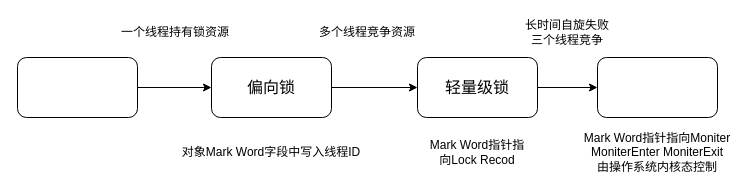
Image size: 755x194. Some labels were removed from this diagram. The shapes that lost their labels are listed below. From the top down, each one's centre as x and y in pixels, then its label:
At pixel 77 87: "无锁".
At pixel 657 87: "重量级锁".
